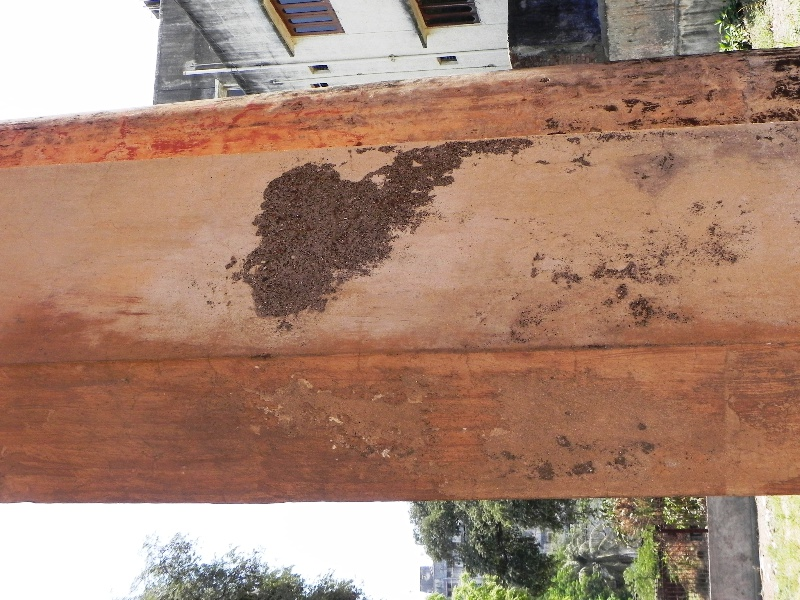Spalling: (214, 130, 537, 329)
